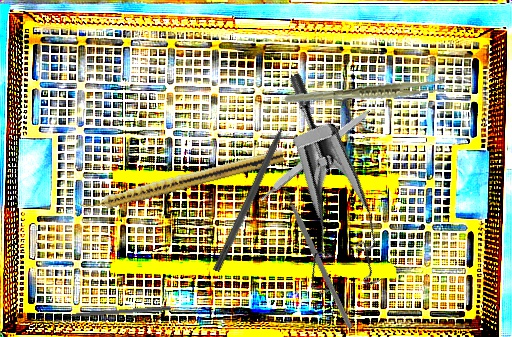Chopper: (237, 176, 403, 329)
Handpiece: (77, 145, 285, 217)
Hook Surgical: (212, 106, 297, 274), (51, 304, 172, 320)
Scalpel Handle: (256, 105, 373, 203)
Speculum: (209, 70, 420, 315)
Tissue Forceps: (284, 63, 449, 121)
